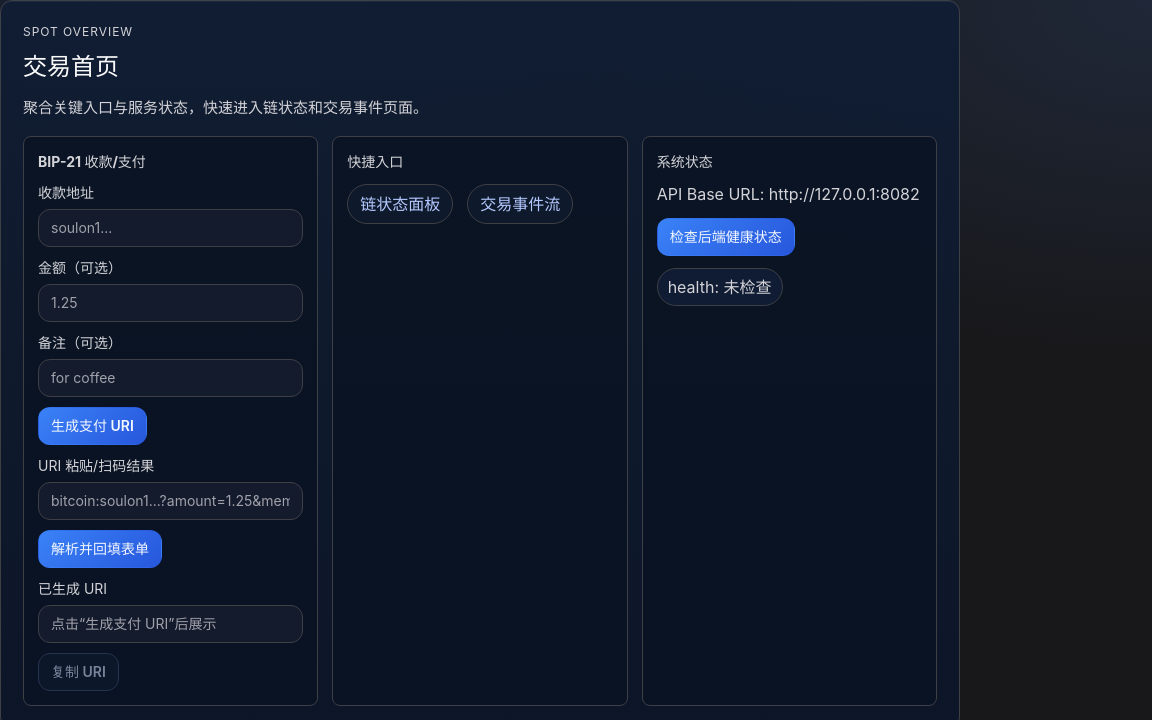
Scenario: HomePage › 可生成支付 URI 并展示到输入与结果区域
This screenshot has width=1152, height=720.
Type "soulon1xyz" into the field labelled "收款地址" at (171, 228), box [38,208,303,246]
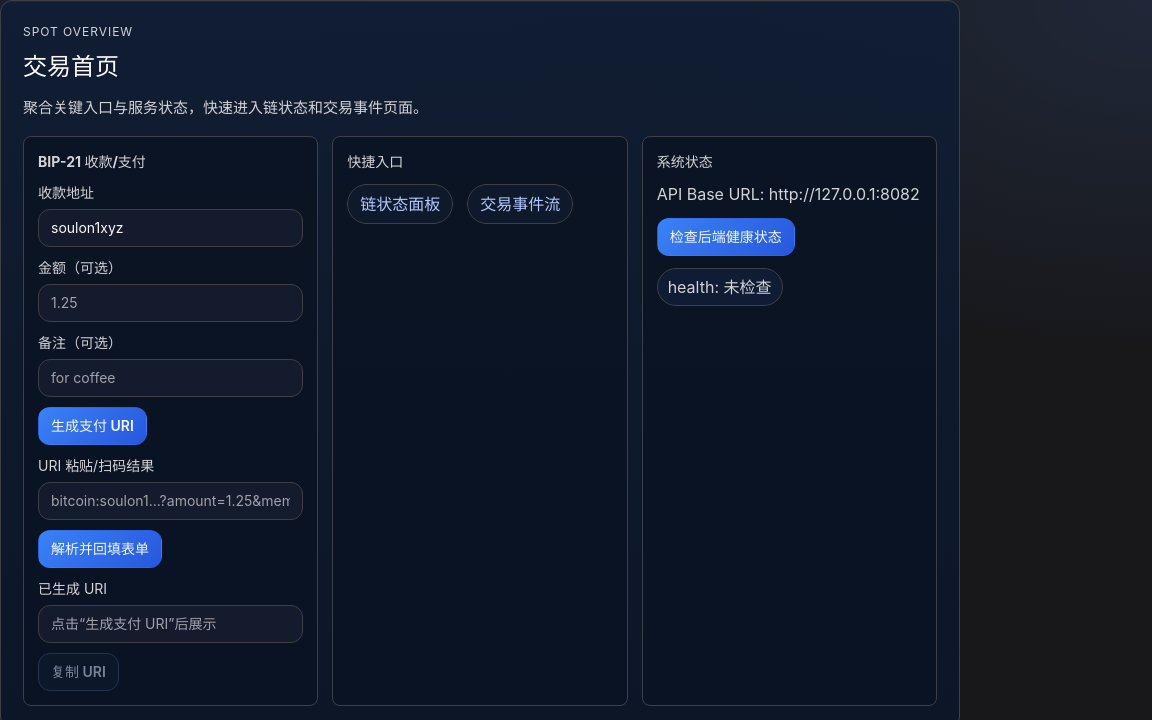
Type "2" into the field labelled "金额（可选）" at (171, 302), box [38,284,303,322]
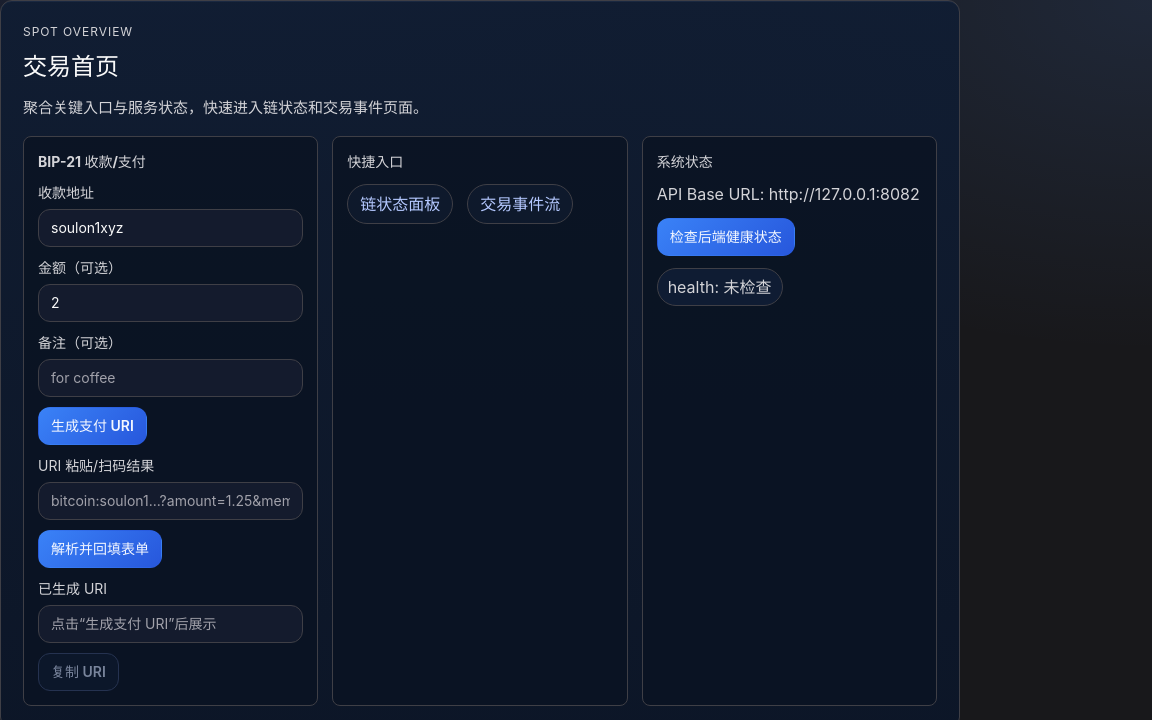
Type "tip" into the field labelled "备注（可选）" at (171, 378), box [38,358,303,396]
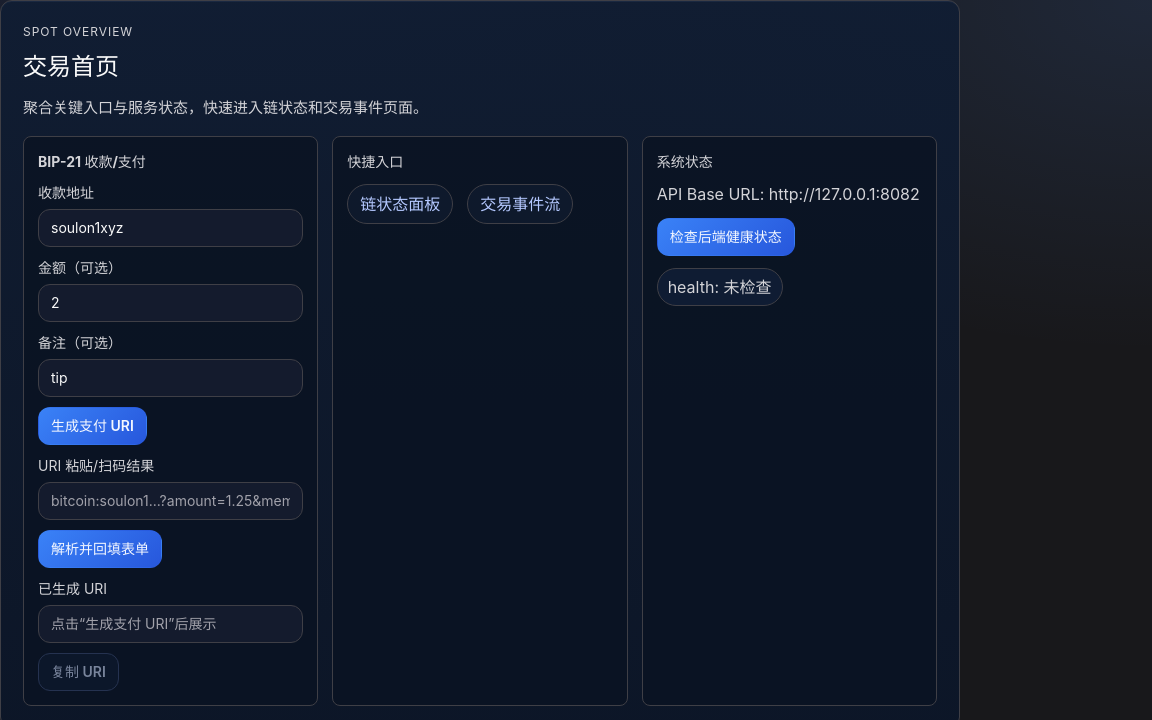
Click the button "生成支付 URI" at (92, 426), box [38,406,147,444]
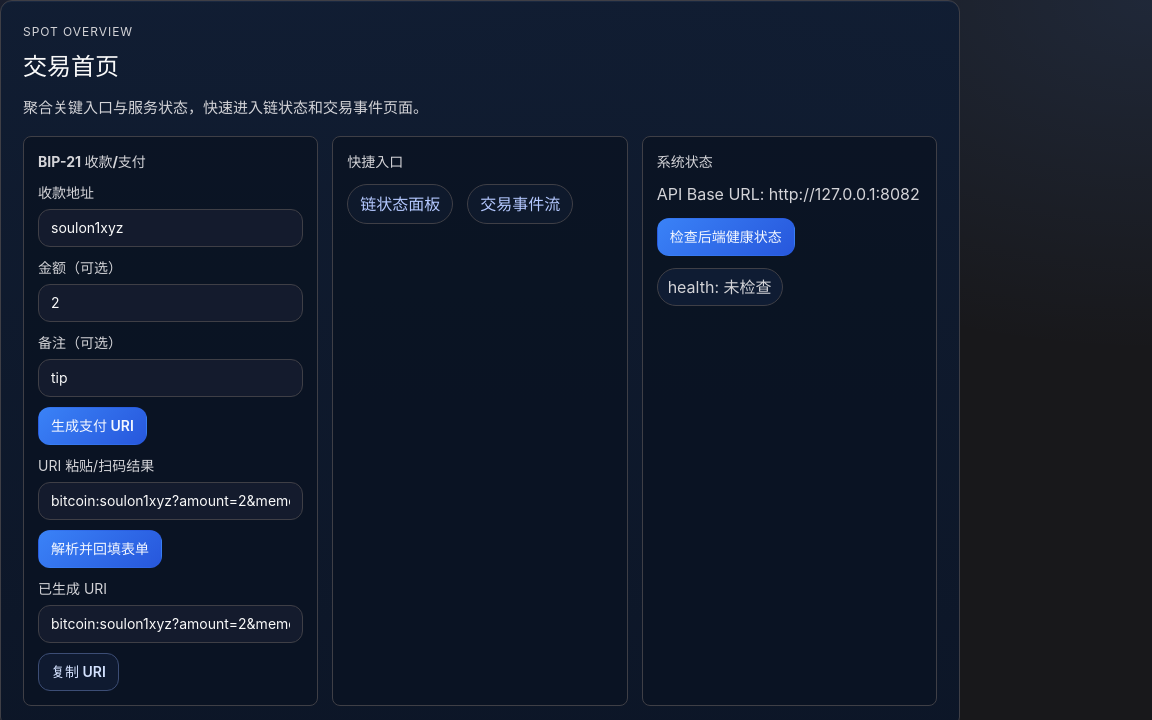
Result: the field labelled "URI 粘贴/扫码结果" holds "bitcoin:soulon1xyz?amount=2&memo=tip" at [38,482,303,520]
Result: the field labelled "已生成 URI" holds "bitcoin:soulon1xyz?amount=2&memo=tip" at [38,604,303,642]
